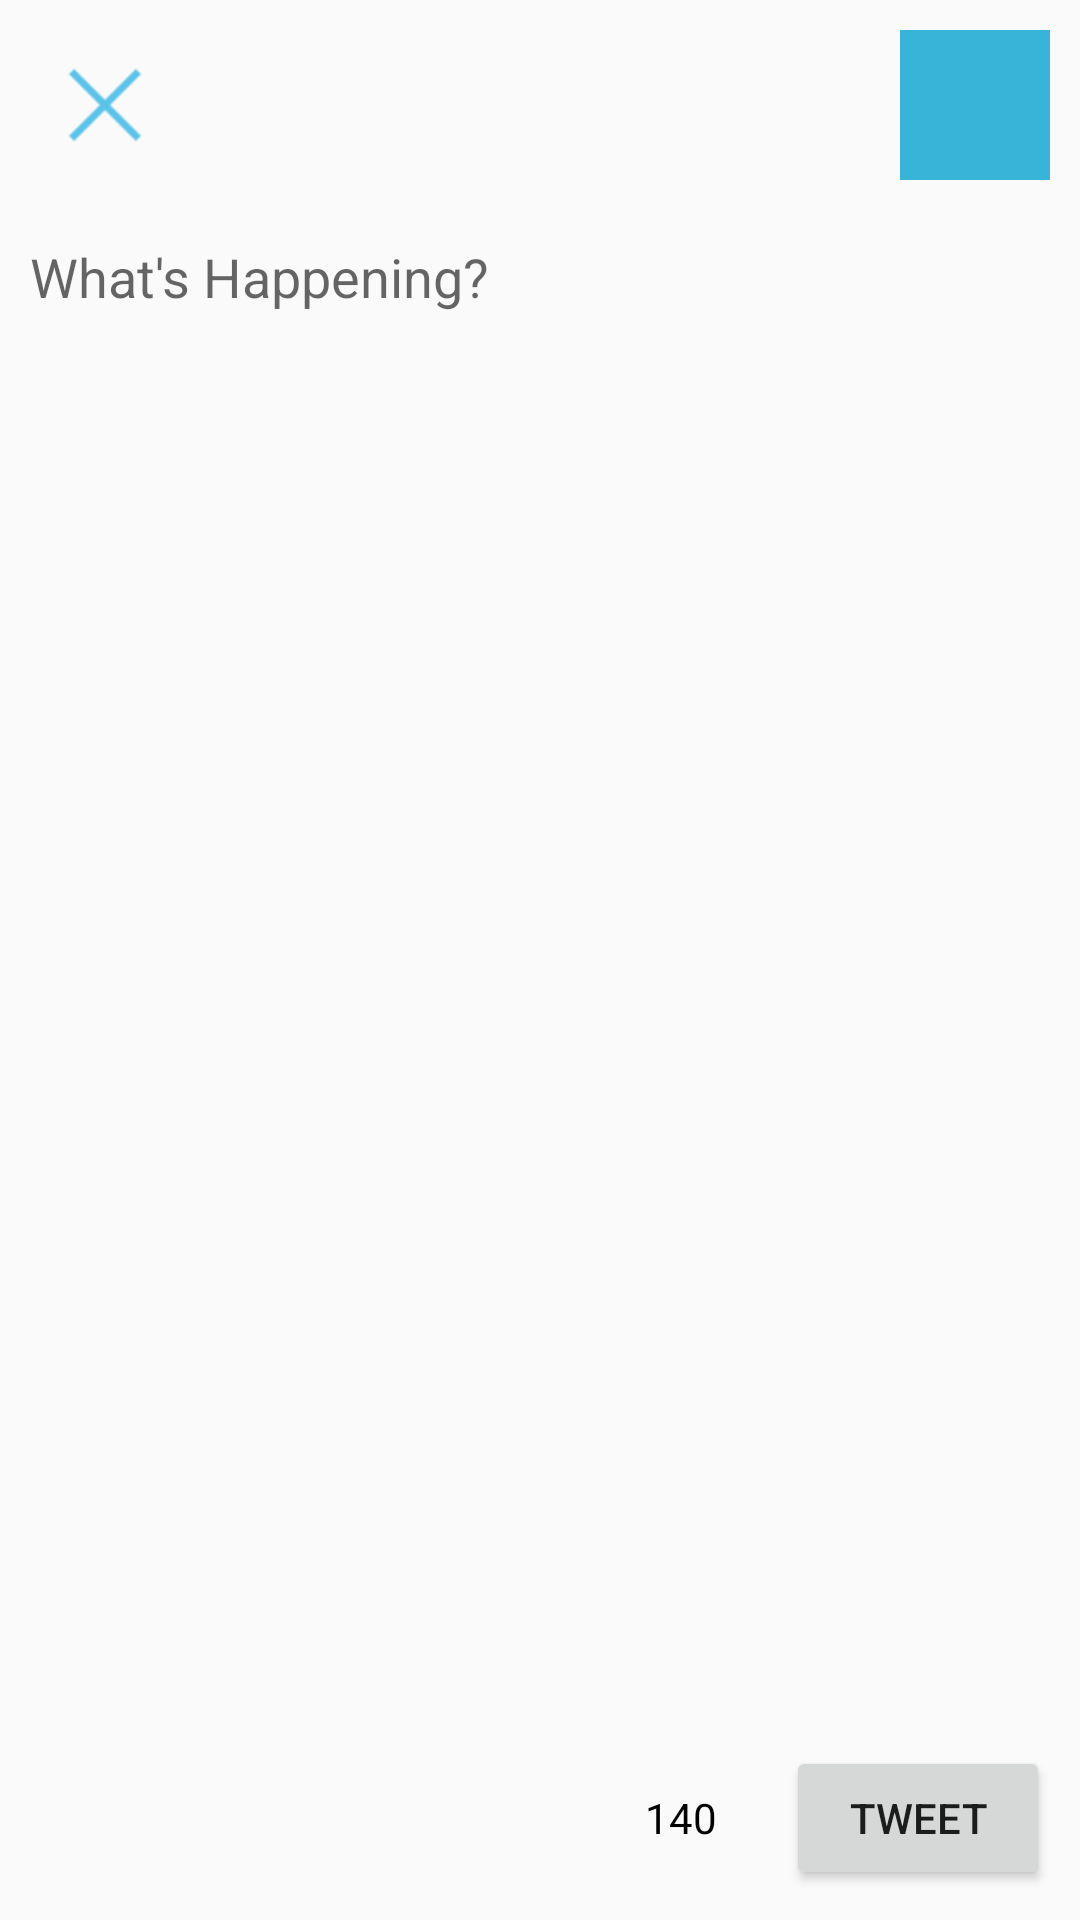

Icons on this 1080x1920 Android screen, each with its box as BBox(x1, y1, x2, y2):
exit: BBox(69, 69, 141, 141)
